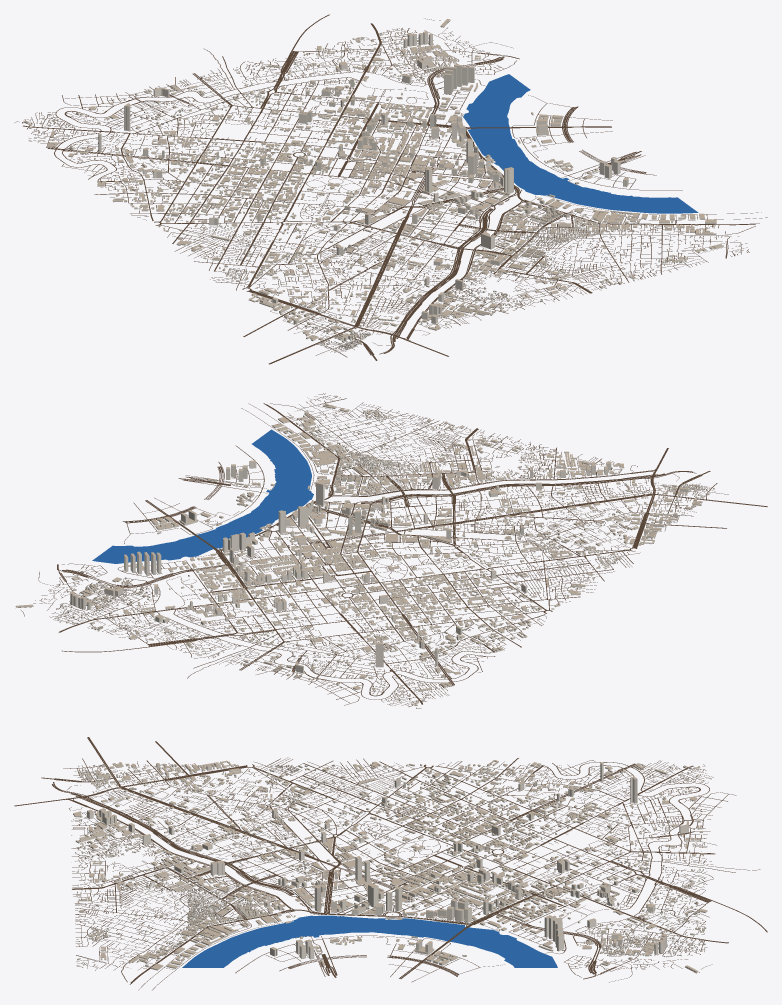
File: district1.glb
The picture shows the model from 3 angles, top to bottom: view 1: azimuth 30°, elevation 25°; view 2: azimuth 150°, elevation 25°; view 3: azimuth 270°, elevation 25°; orthographic projection. The views are drawn at different scales.
Visible parts, largest first — view 1: Ho Chi Minh City — District 1; view 2: Ho Chi Minh City — District 1; view 3: Ho Chi Minh City — District 1.
Part boxes in pixels (left/top/right/bottom): Ho Chi Minh City — District 1: left=15, top=14, right=767, bottom=364; Ho Chi Minh City — District 1: left=15, top=393, right=767, bottom=708; Ho Chi Minh City — District 1: left=14, top=737, right=767, bottom=990.
Bounding box in the file's own units: 4610 × 205 × 5786.
